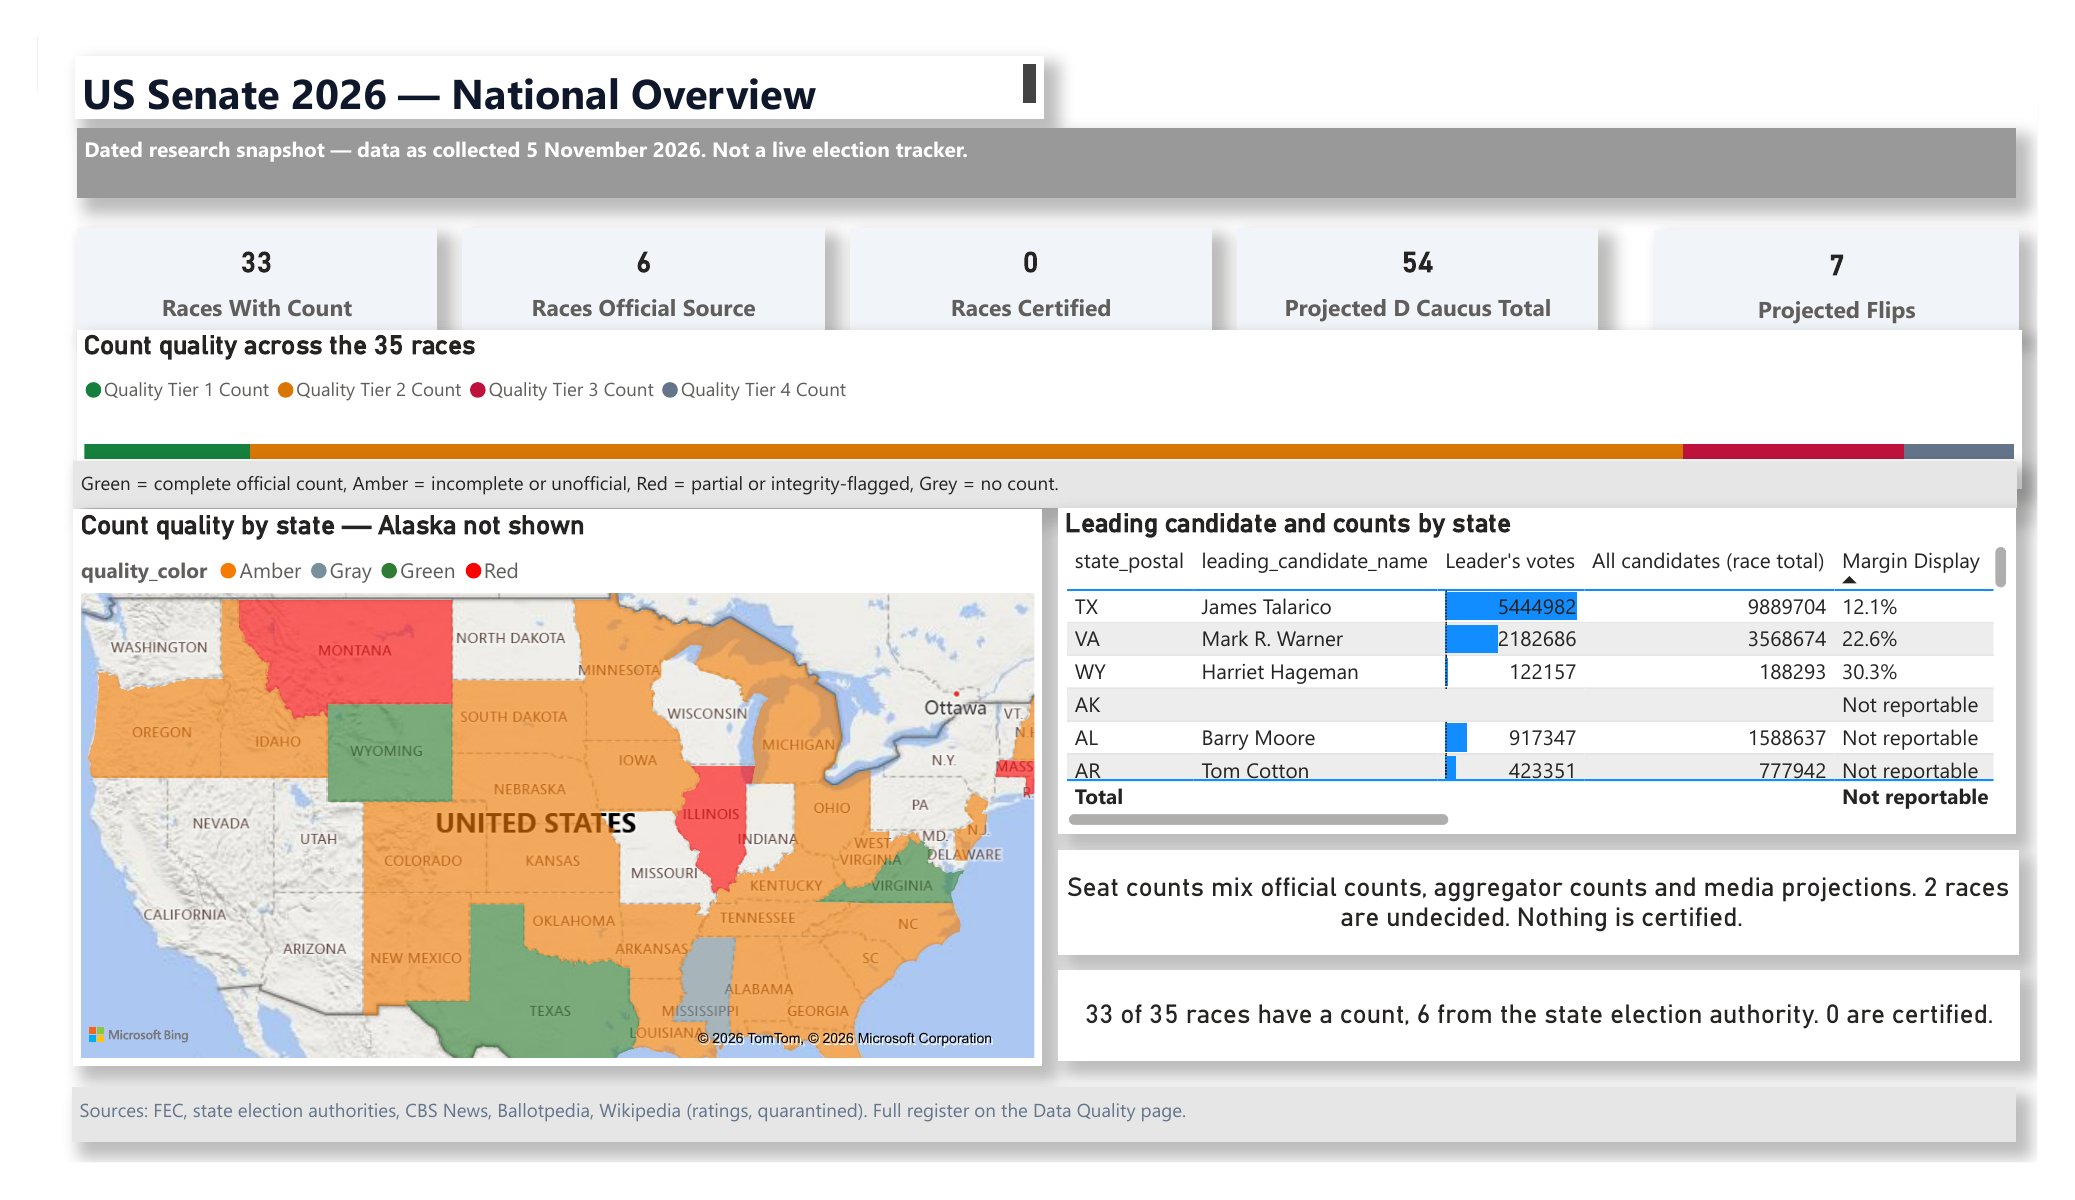

Layout of this report page (visuals, bound fields, positions):
{"tool":"powerbi","page":{"name":"National Overview","canvas":[1280,720],"ordinal":0},"visuals":[{"type":"textbox","box":[24,12,620,40],"z":0},{"type":"textbox","box":[24.6,57.9,1241.3,44.9],"z":1000},{"type":"card","fields":{"Values":["_Measures.Races With Count"]},"box":[24.6,121.7,231.8,65.2],"z":3000},{"type":"card","fields":{"Values":["_Measures.Races Official Source"]},"box":[272.3,121.7,231.8,65.2],"z":4000},{"type":"card","fields":{"Values":["_Measures.Races Certified"]},"box":[520,121.7,231.8,65.2],"z":5000},{"type":"card","fields":{"Values":["_Measures.Projected D Caucus Total"]},"box":[767.7,121.7,231.8,65.2],"z":6000},{"type":"card","fields":{"Values":["_Measures.Projected Flips"]},"box":[1035,123.3,233.2,65.2],"z":7000},{"type":"hundredPercentStackedBarChart","title":"Count quality across the 35 races","fields":{"Y":["_Measures.Quality Tier 1 Count","_Measures.Quality Tier 2 Count","_Measures.Quality Tier 3 Count","_Measures.Quality Tier 4 Count"]},"box":[24.6,186.9,1245,102],"z":8000},{"type":"textbox","box":[23.2,270.9,1243.3,30],"z":9000},{"type":"filledMap","title":"Count quality by state — Alaska not shown","fields":{"Category":["DimState.state_name"],"Series":["RaceQualityFlags.quality_color"]},"box":[23.3,301.7,620,356.7],"z":10000},{"type":"tableEx","title":"Leading candidate and counts by state","fields":{"Values":["FactRaceResult.state_postal","FactRaceResult.leading_candidate_name","FactRaceResult.leading_votes","FactRaceResult.race_total_votes","_Measures.Margin Display","DataQualityChecks.Last Updated Text","DataQualityChecks.Source Status Text"]},"box":[653.3,301.3,612.7,208.6],"z":11000},{"type":"card","fields":{"Values":["_Measures.Seats Caveat"]},"box":[653.3,520,615,66.7],"z":12000},{"type":"card","fields":{"Values":["_Measures.Coverage Label"]},"box":[653.3,596.8,615.6,57.9],"z":13000},{"type":"textbox","box":[21.7,672.1,1244.2,34.8],"z":14000}]}

Visuals, with their boxes on the page's 1280x720 design canvas (x1, y1, x2, y2). These are canvas units, not pixel positions in the 2075x1200 screenshot, which may show the page scaled, cropped or inside an application window:
textbox: <box>24,12,644,52</box>
textbox: <box>25,58,1266,103</box>
card - _Measures.Races With Count: <box>25,122,256,187</box>
card - _Measures.Races Official Source: <box>272,122,504,187</box>
card - _Measures.Races Certified: <box>520,122,752,187</box>
card - _Measures.Projected D Caucus Total: <box>768,122,1000,187</box>
card - _Measures.Projected Flips: <box>1035,123,1268,188</box>
"Count quality across the 35 races" hundredPercentStackedBarChart: <box>25,187,1270,289</box>
textbox: <box>23,271,1266,301</box>
"Count quality by state — Alaska not shown" filledMap: <box>23,302,643,658</box>
"Leading candidate and counts by state" tableEx: <box>653,301,1266,510</box>
card - _Measures.Seats Caveat: <box>653,520,1268,587</box>
card - _Measures.Coverage Label: <box>653,597,1269,655</box>
textbox: <box>22,672,1266,707</box>
